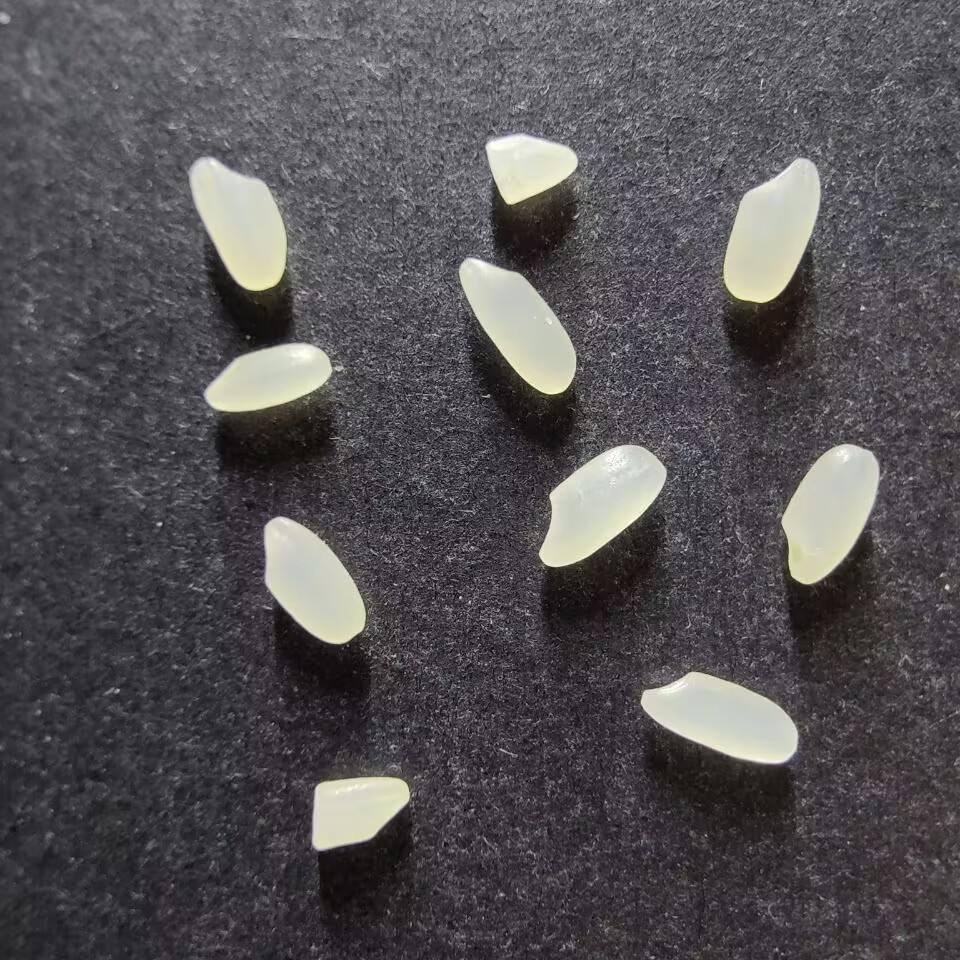broken: (310, 776, 410, 852), (485, 133, 578, 205)
rice: (458, 257, 577, 396), (537, 444, 667, 568), (639, 670, 799, 765), (722, 156, 821, 302), (780, 444, 880, 584), (262, 516, 366, 644), (188, 157, 285, 290), (203, 342, 332, 412)
